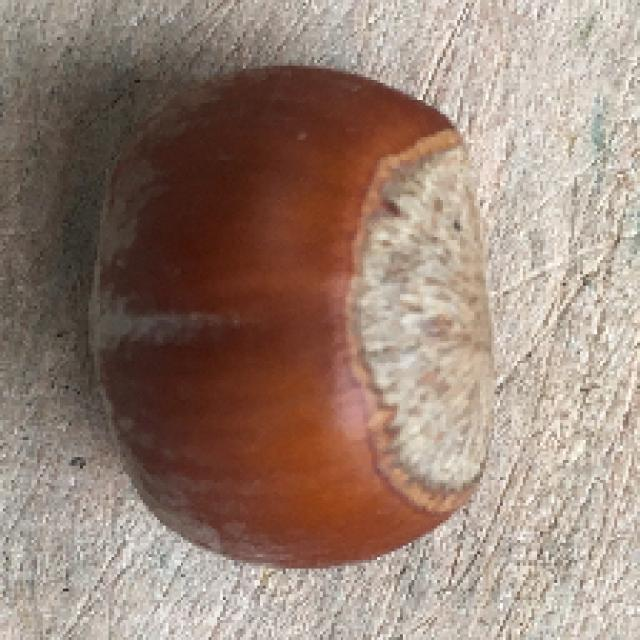QualityHazelnut: (91, 65, 502, 572)
